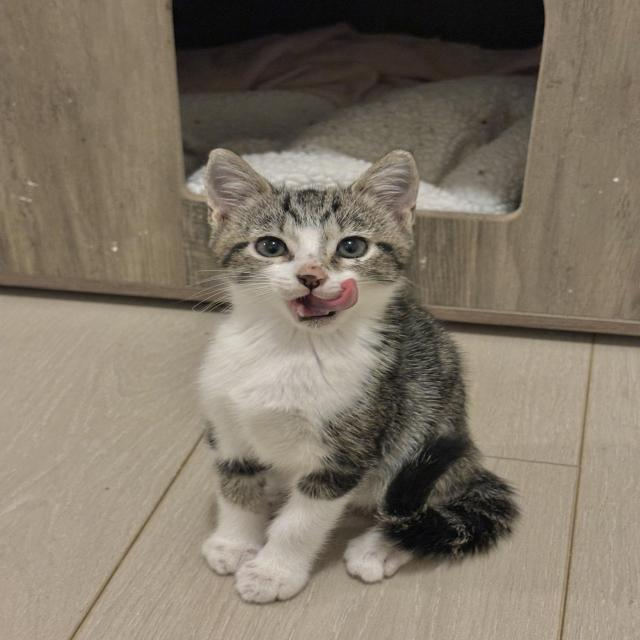domestic_short_hair_cat: (178, 138, 438, 346)
